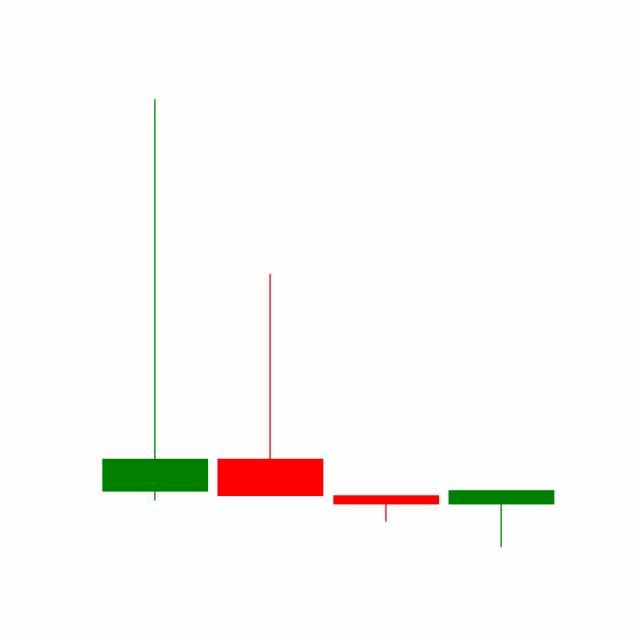Hanging Man: (444, 489, 560, 549)
